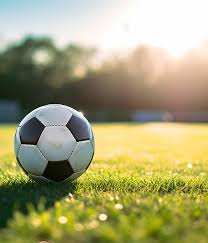football ball: (12, 103, 98, 186)
